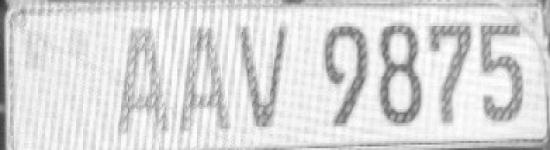5: (477, 16, 530, 129)
7: (426, 17, 476, 133)
8: (370, 17, 428, 130)
9: (316, 18, 372, 133)
A: (115, 19, 174, 139), (176, 18, 233, 141)
V: (233, 15, 297, 139)
